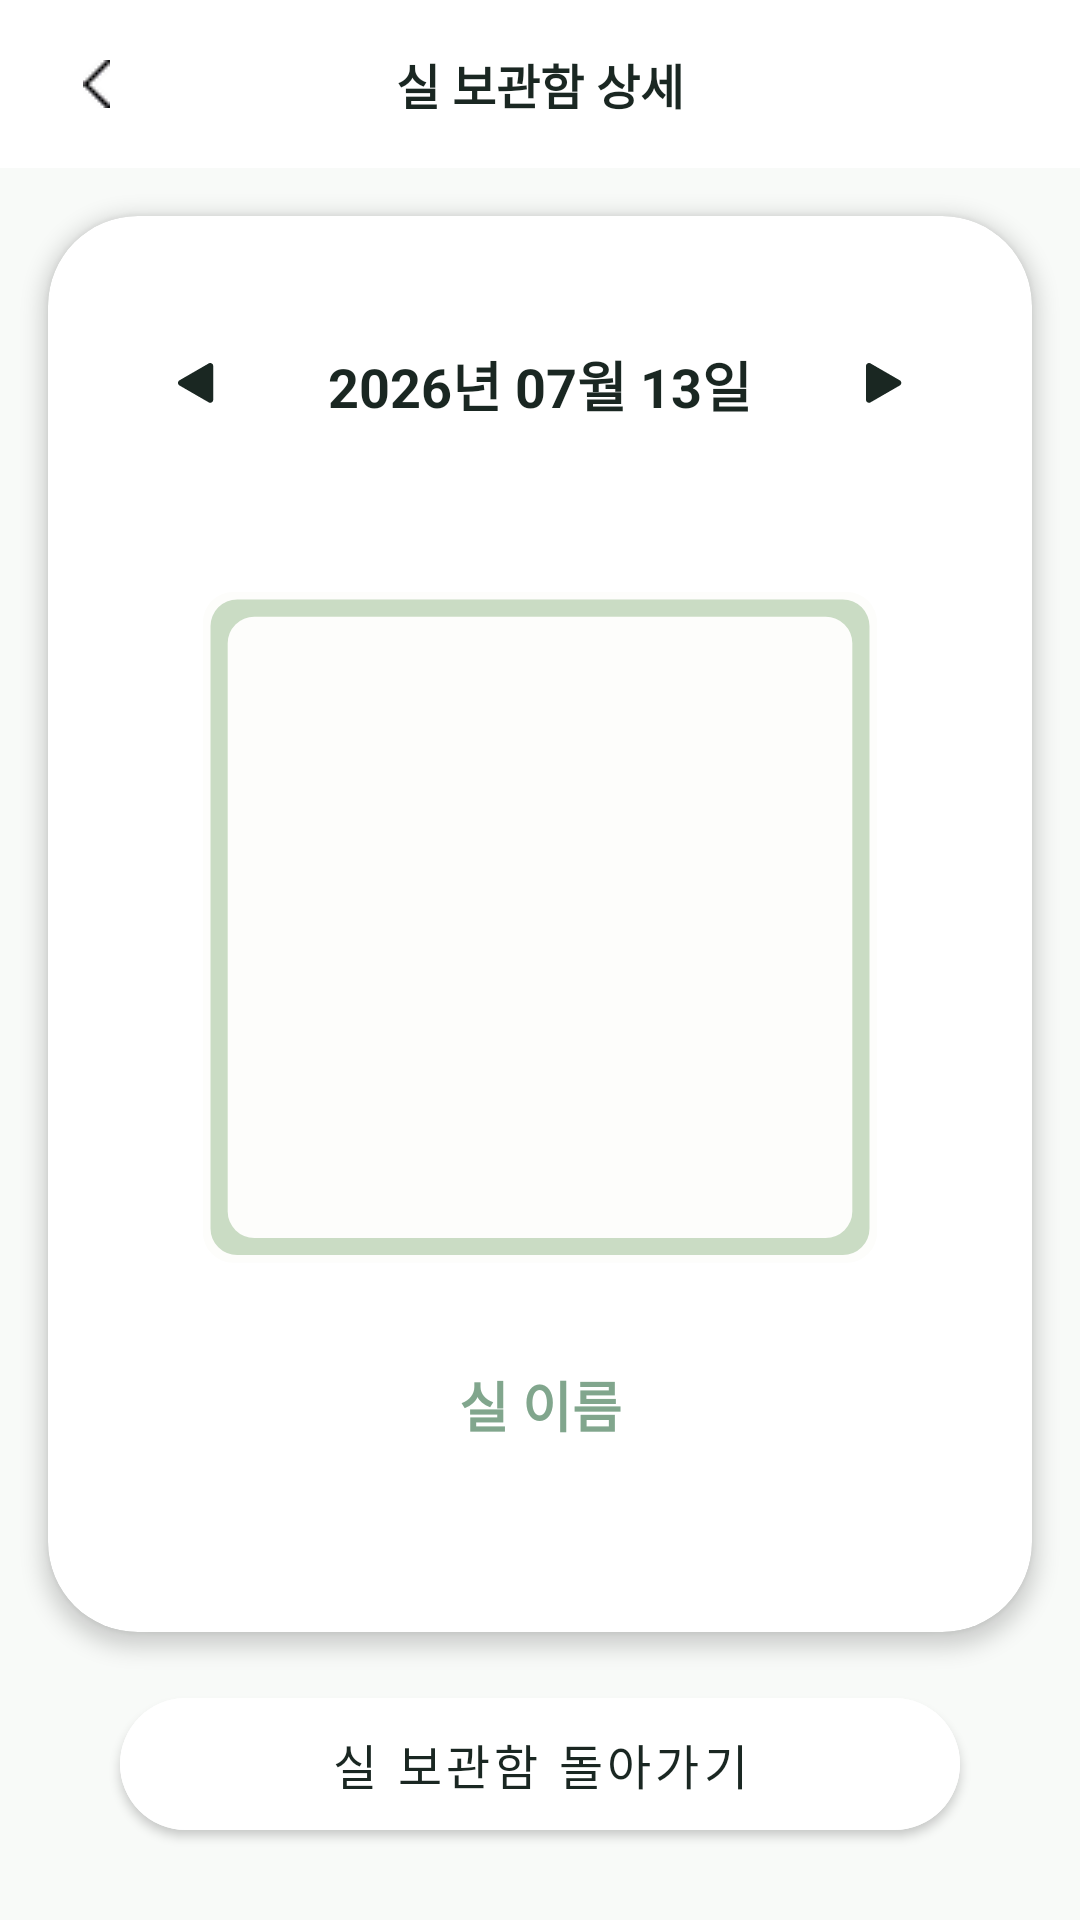

Where icons sit on this 1080×1920 app screen, as [x1=x1, y1=y1, x2=x2, y2=y2]:
다음: [x1=866, y1=363, x2=902, y2=403]
뒤로가기: [x1=83, y1=60, x2=110, y2=108]
이전: [x1=178, y1=363, x2=214, y2=403]
